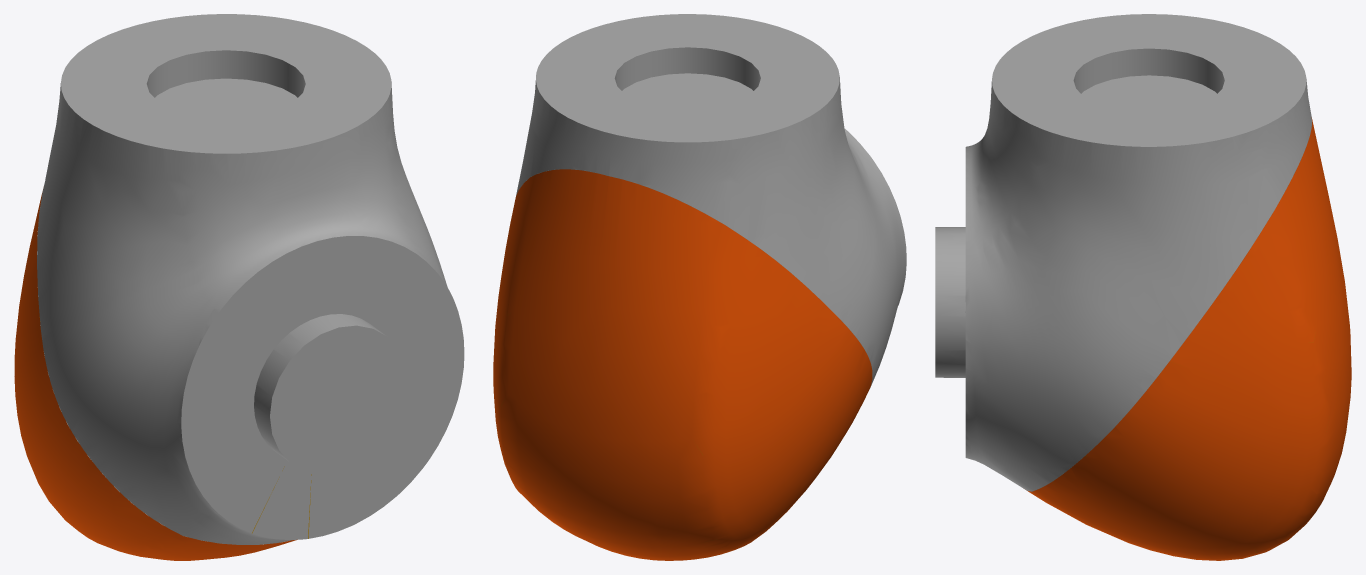
3 views of the same model, side by side, from view 1: azimuth 30°, elevation 25°; view 2: azimuth 150°, elevation 25°; view 3: azimuth 270°, elevation 25° (orthographic). The views are drawn at different scales.
Visible parts, largest first — view 1: ShapeIndexedFaceSet; view 2: ShapeIndexedFaceSet; view 3: ShapeIndexedFaceSet.
Part boxes in pixels (x1,y1,x2,y2): ShapeIndexedFaceSet: (14, 14, 464, 560); ShapeIndexedFaceSet: (493, 14, 906, 560); ShapeIndexedFaceSet: (935, 14, 1351, 560).
Size of the model in its own units: 0.1322 by 0.1673 by 0.1376.
